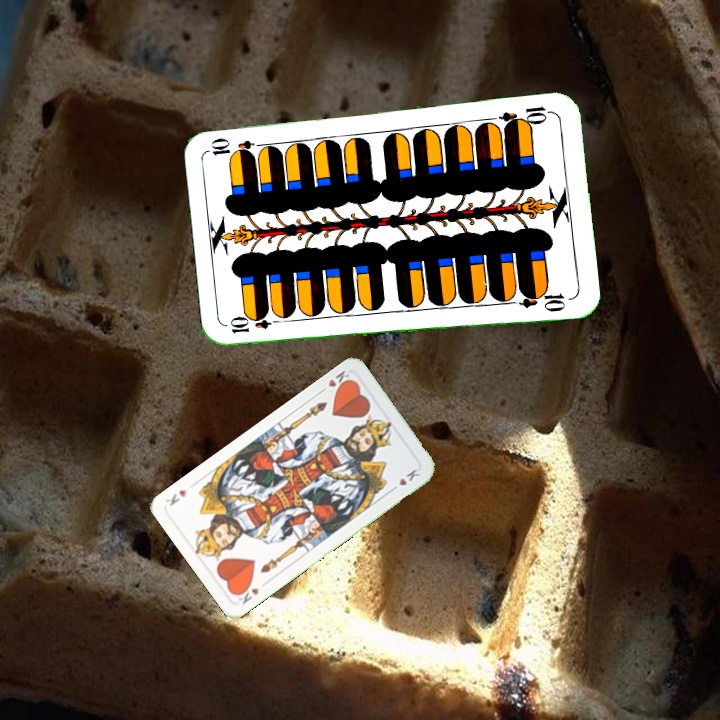E10: (496, 101, 556, 131), (226, 313, 285, 336)
HK: (315, 366, 355, 396), (232, 580, 262, 607)
